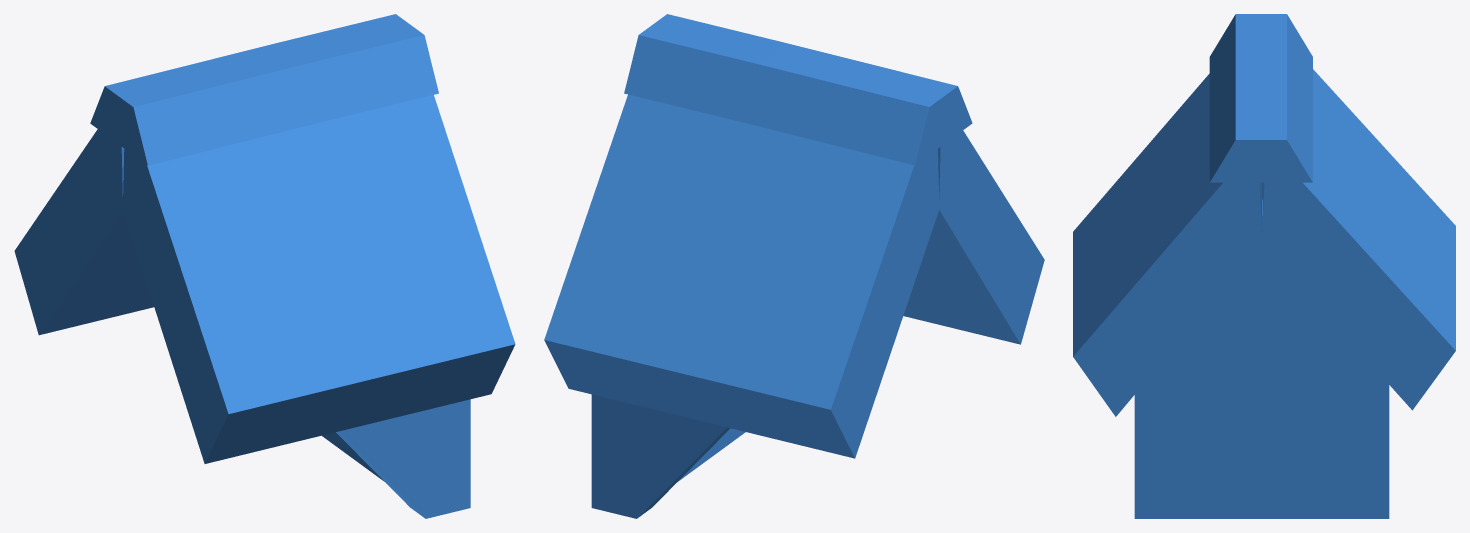
Rendered from Collision_Roof_Dormer_RoundTile.fbx.
The picture shows the model from 3 angles, left to right: view 1: azimuth 30°, elevation 25°; view 2: azimuth 150°, elevation 25°; view 3: azimuth 270°, elevation 25°; orthographic projection. The views are drawn at different scales.
Parts seen in each view (by area): view 1: UCX_Roof_Dormer_RoundTile_02; view 2: UCX_Roof_Dormer_RoundTile_02; view 3: UCX_Roof_Dormer_RoundTile_02.
Part boxes in pixels (bbox=[...]): UCX_Roof_Dormer_RoundTile_02: bbox=[14, 14, 515, 518]; UCX_Roof_Dormer_RoundTile_02: bbox=[544, 14, 1044, 518]; UCX_Roof_Dormer_RoundTile_02: bbox=[1073, 14, 1455, 518].
Size of the model in its own units: 189 by 266 by 240.
